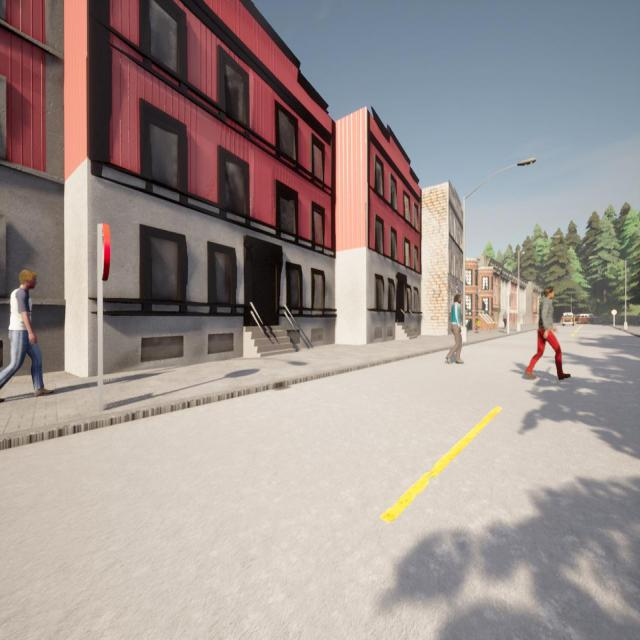Pedestrian: (0, 268, 52, 405), (525, 286, 570, 379), (445, 294, 463, 364), (502, 309, 508, 331), (476, 319, 482, 336)
Traffic_Signs: (96, 221, 112, 282), (611, 309, 617, 316)
Vehicle: (576, 314, 596, 326), (561, 312, 574, 326)
